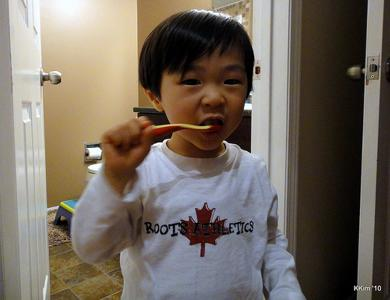person: (72, 10, 309, 300)
